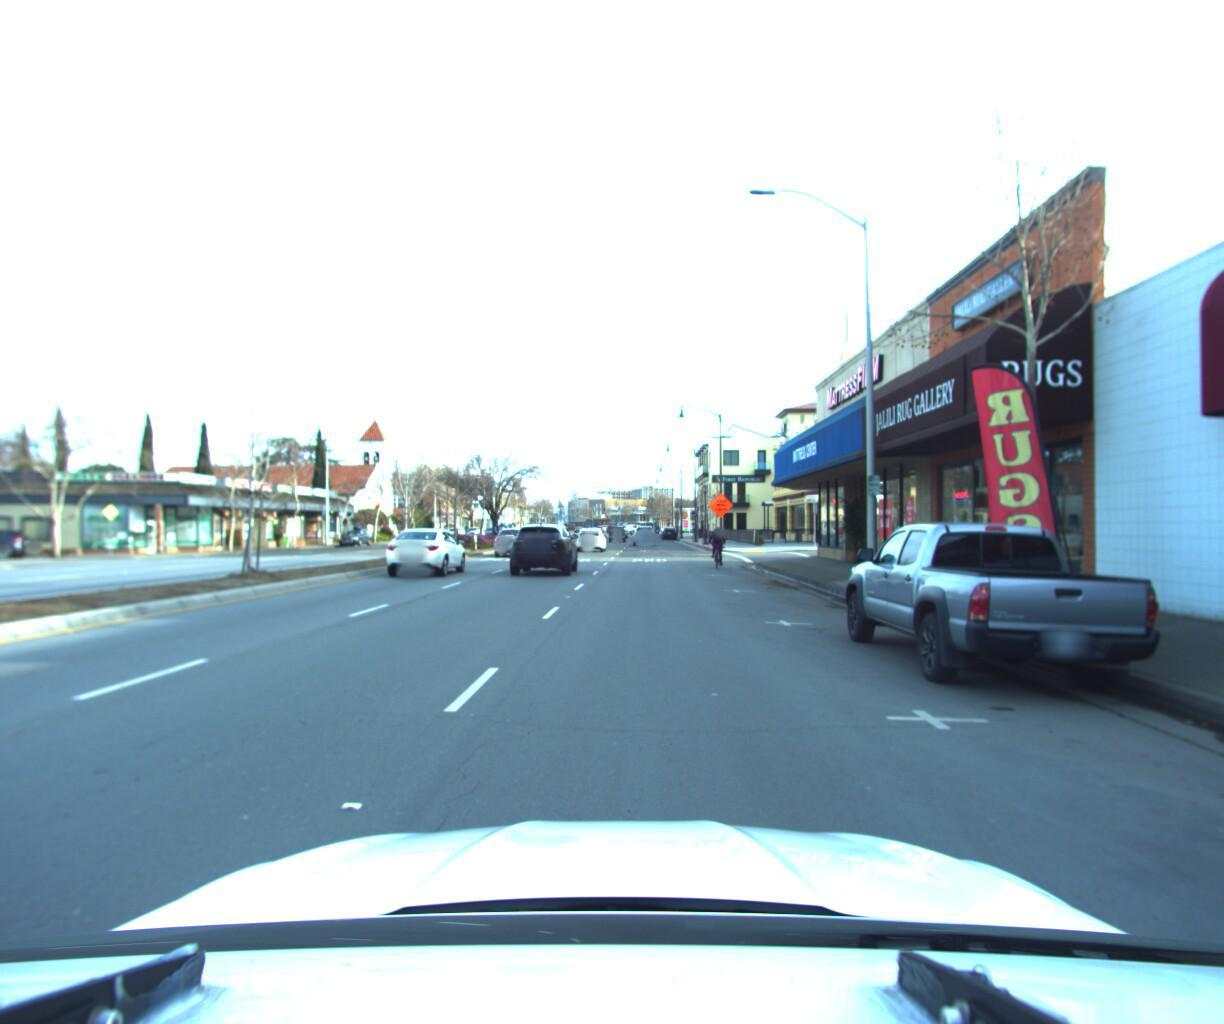bicycle: (699, 516, 725, 563)
car: (841, 511, 1185, 712), (382, 523, 471, 578), (508, 515, 580, 576), (490, 527, 538, 554), (572, 518, 606, 549), (336, 521, 378, 544), (632, 520, 656, 542), (610, 520, 629, 538)
